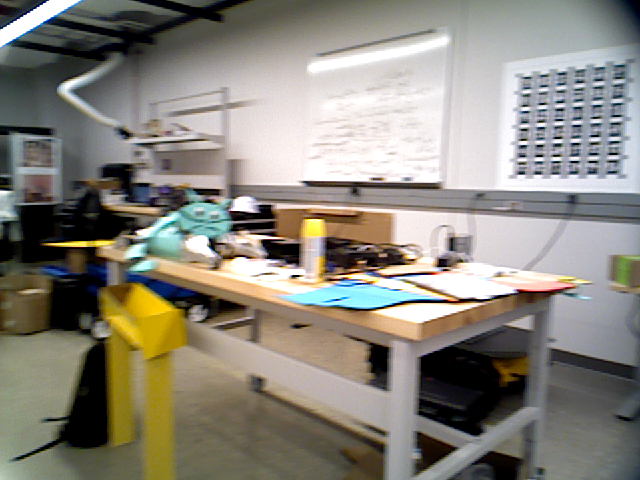painting4: (501, 55, 640, 190)
